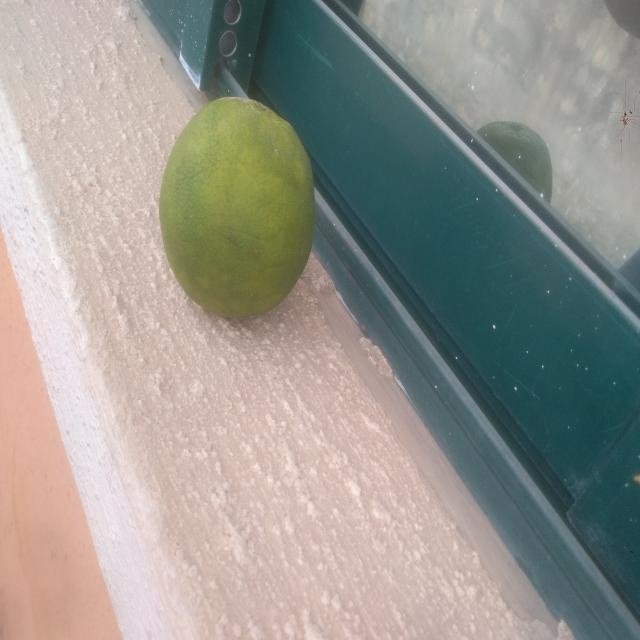agrume: (121, 61, 347, 355)
